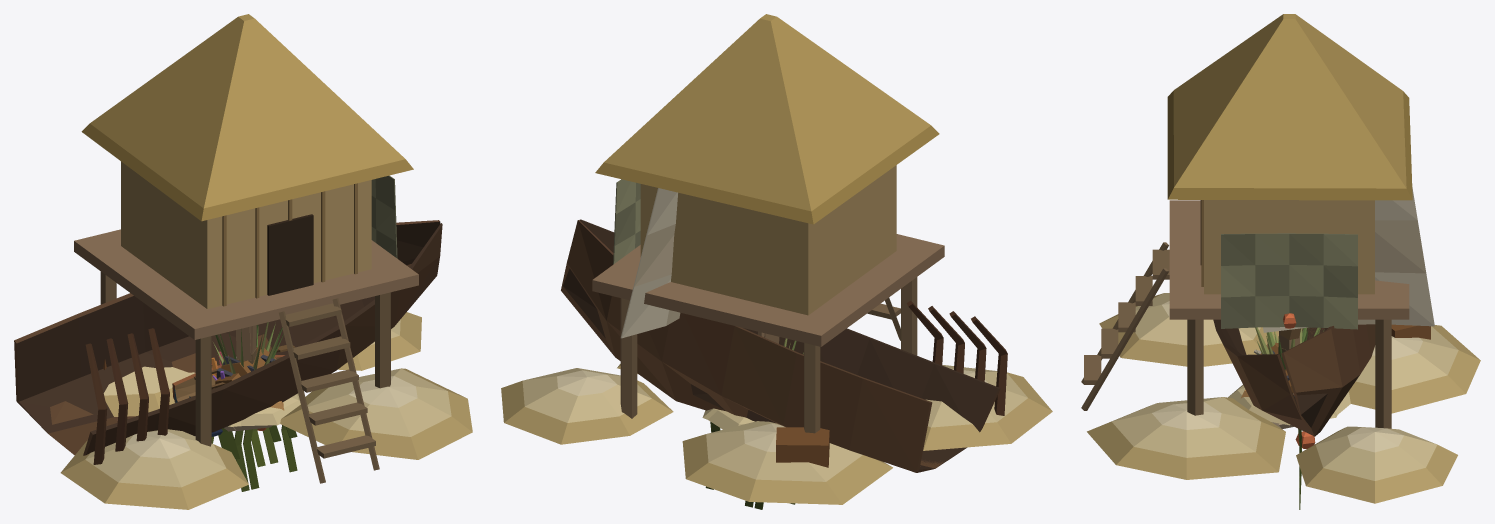
The model's file is lagoon.glb.
The picture shows the model from 3 angles, left to right: view 1: azimuth 30°, elevation 25°; view 2: azimuth 150°, elevation 25°; view 3: azimuth 270°, elevation 25°; orthographic projection. The views are drawn at different scales.
Parts seen in each view (by area): view 1: lagoon_stilt_hut_a, lagoon_shipwreck_a, lagoon_seaweed_drape_b, lagoon_buried_chest_a, lagoon_seaweed_drape_a, lagoon_beach_grass_b; view 2: lagoon_stilt_hut_a, lagoon_shipwreck_a; view 3: lagoon_stilt_hut_a, lagoon_shipwreck_a, lagoon_buried_chest_a.
Boxes of the visible parts, <box> form: lagoon_stilt_hut_a: <box>74,14,418,483</box>; lagoon_shipwreck_a: <box>14,220,472,509</box>; lagoon_seaweed_drape_b: <box>218,425,297,491</box>; lagoon_buried_chest_a: <box>215,356,300,426</box>; lagoon_seaweed_drape_a: <box>211,427,297,489</box>; lagoon_beach_grass_b: <box>213,322,283,373</box>; lagoon_stilt_hut_a: <box>592,14,944,433</box>; lagoon_shipwreck_a: <box>501,188,1052,504</box>; lagoon_stilt_hut_a: <box>1081,14,1412,428</box>; lagoon_shipwreck_a: <box>1087,187,1480,503</box>; lagoon_buried_chest_a: <box>1228,342,1337,425</box>.
Bounding box in the file's own units: 2.88 × 3.06 × 2.34.
